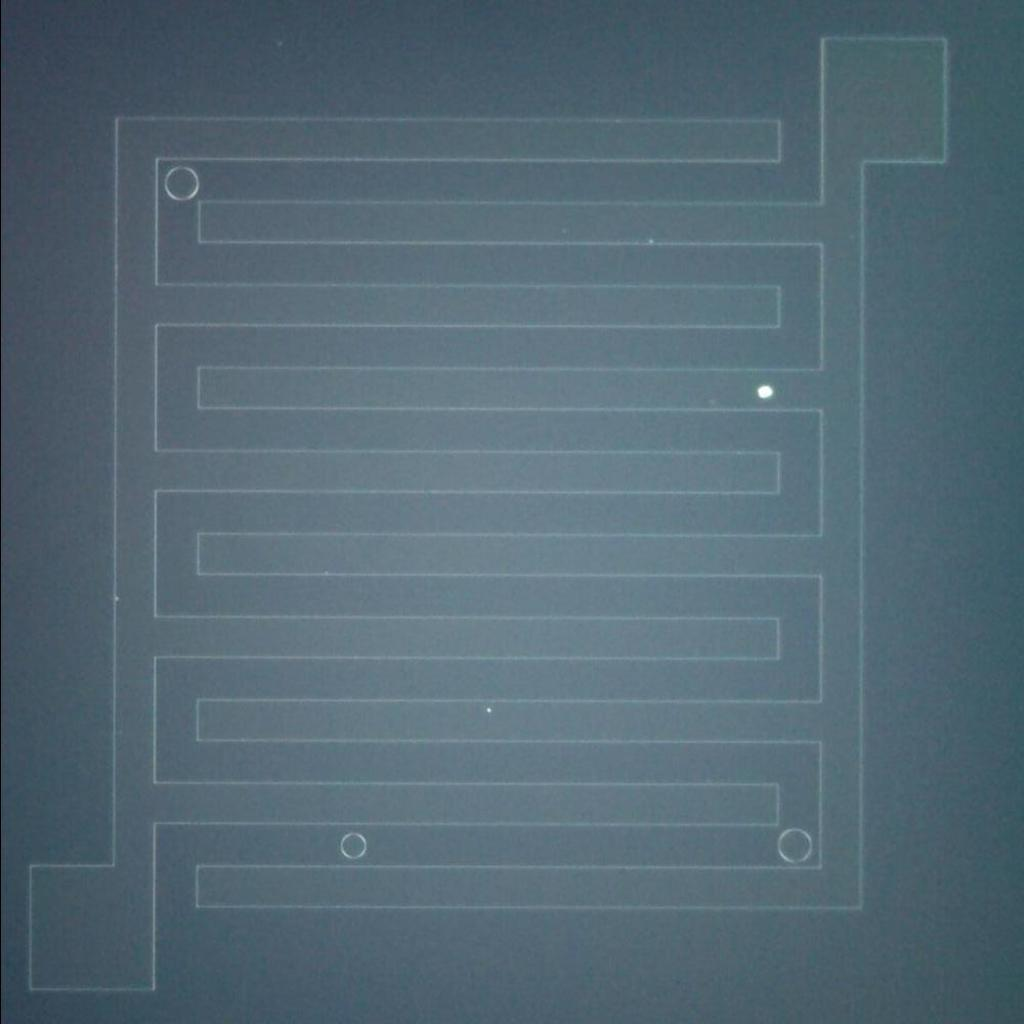circle: (160, 162, 202, 204), (772, 826, 814, 866), (337, 828, 370, 864)
dot: (475, 697, 504, 725)
spot: (749, 375, 780, 406)
